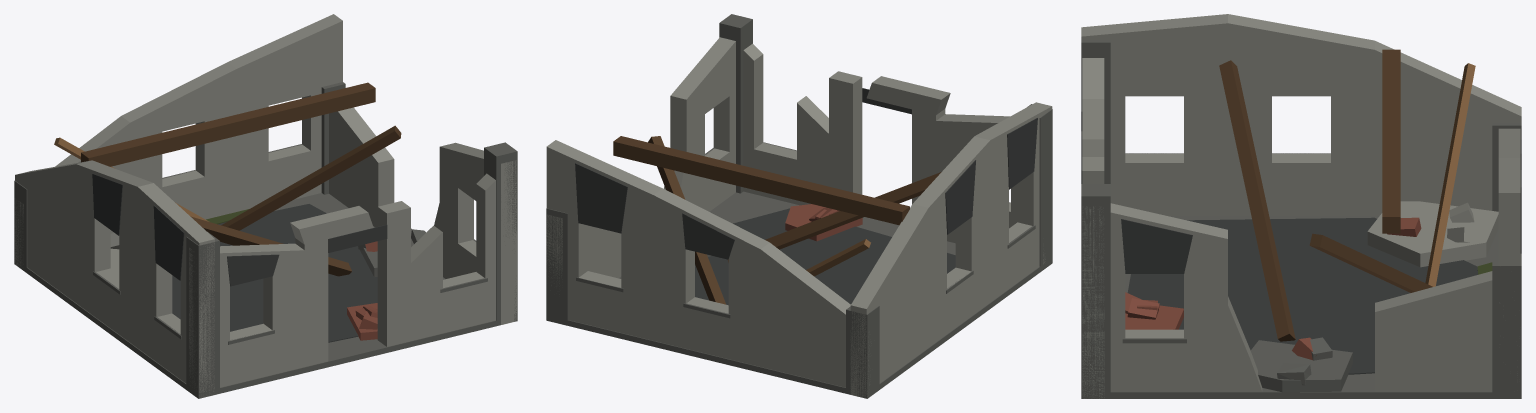
File: building_shell.glb
3 views of the same model, side by side, from view 1: azimuth 30°, elevation 25°; view 2: azimuth 150°, elevation 25°; view 3: azimuth 270°, elevation 25° (orthographic). The views are drawn at different scales.
Parts seen in each view (by area): view 1: building_shell_mesh; view 2: building_shell_mesh; view 3: building_shell_mesh.
Boxes of the visible parts, x1,y1,x2,y2 form: building_shell_mesh: (14, 14, 517, 398); building_shell_mesh: (546, 14, 1052, 398); building_shell_mesh: (1081, 14, 1521, 398).
Bounding box in the file's own units: 6 × 3.1 × 6.
